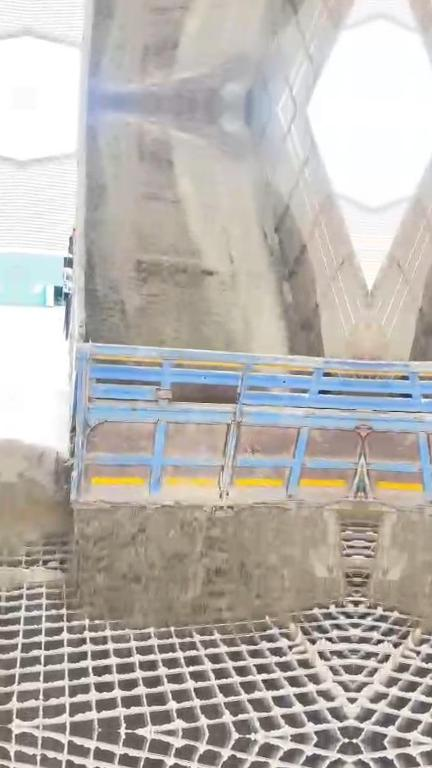sand: (76, 110, 279, 351), (73, 506, 342, 626), (5, 439, 69, 559), (3, 568, 62, 587), (339, 500, 360, 524)
